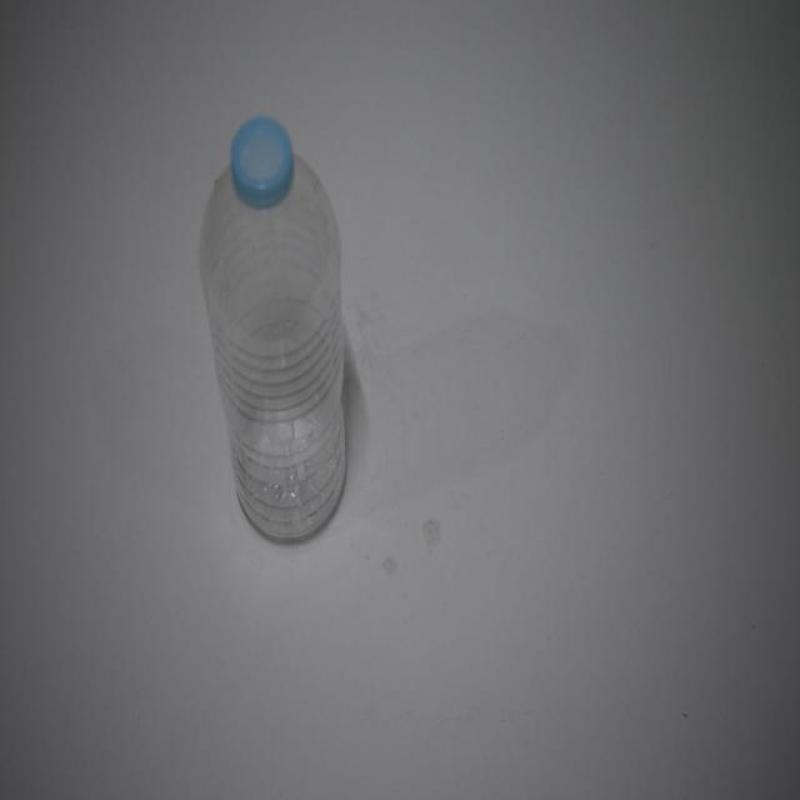botella: (197, 118, 348, 549)
